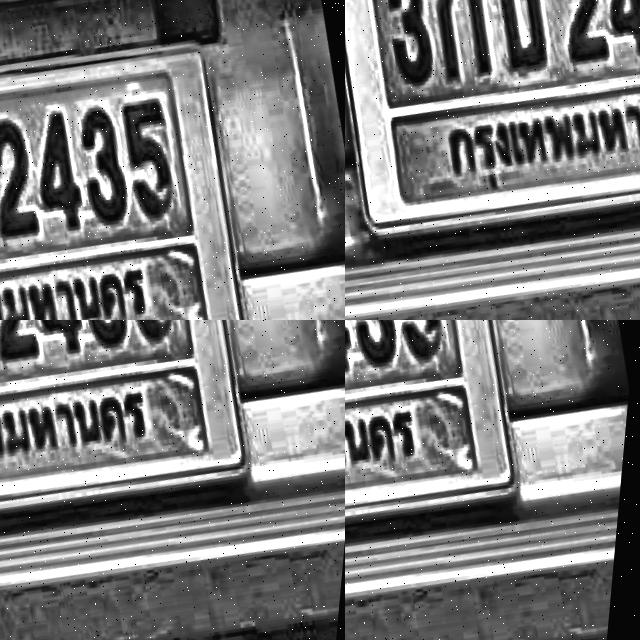license-plate: (345, 320, 574, 618), (345, 0, 640, 189)
